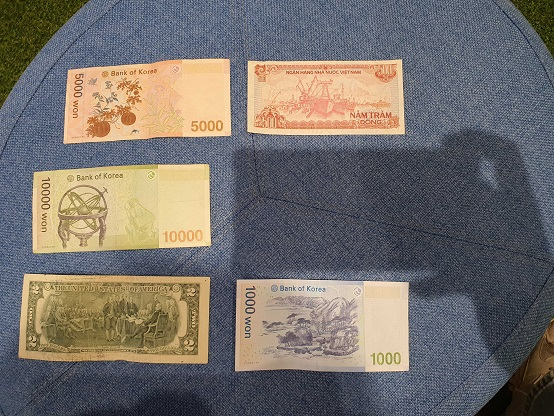10000won: (30, 164, 213, 254)
1000won: (234, 277, 411, 372)
2dollar: (17, 273, 210, 367)
5000won: (61, 55, 234, 147)
500vnd: (246, 57, 406, 136)
